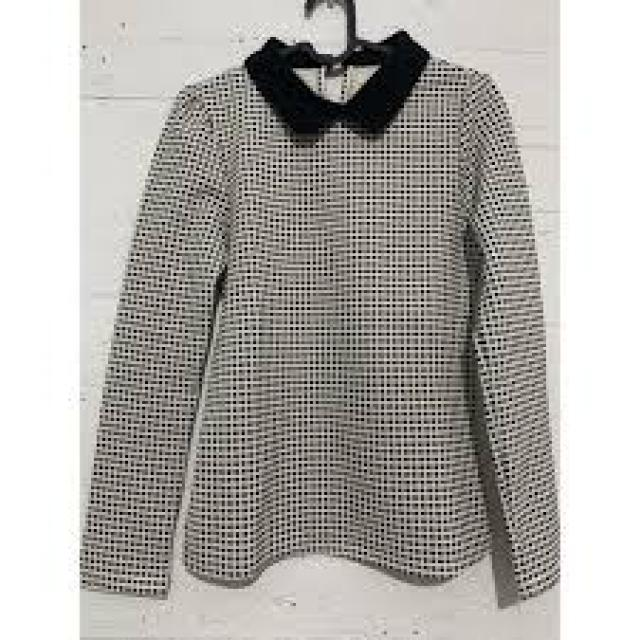plaid: (99, 69, 556, 596)
